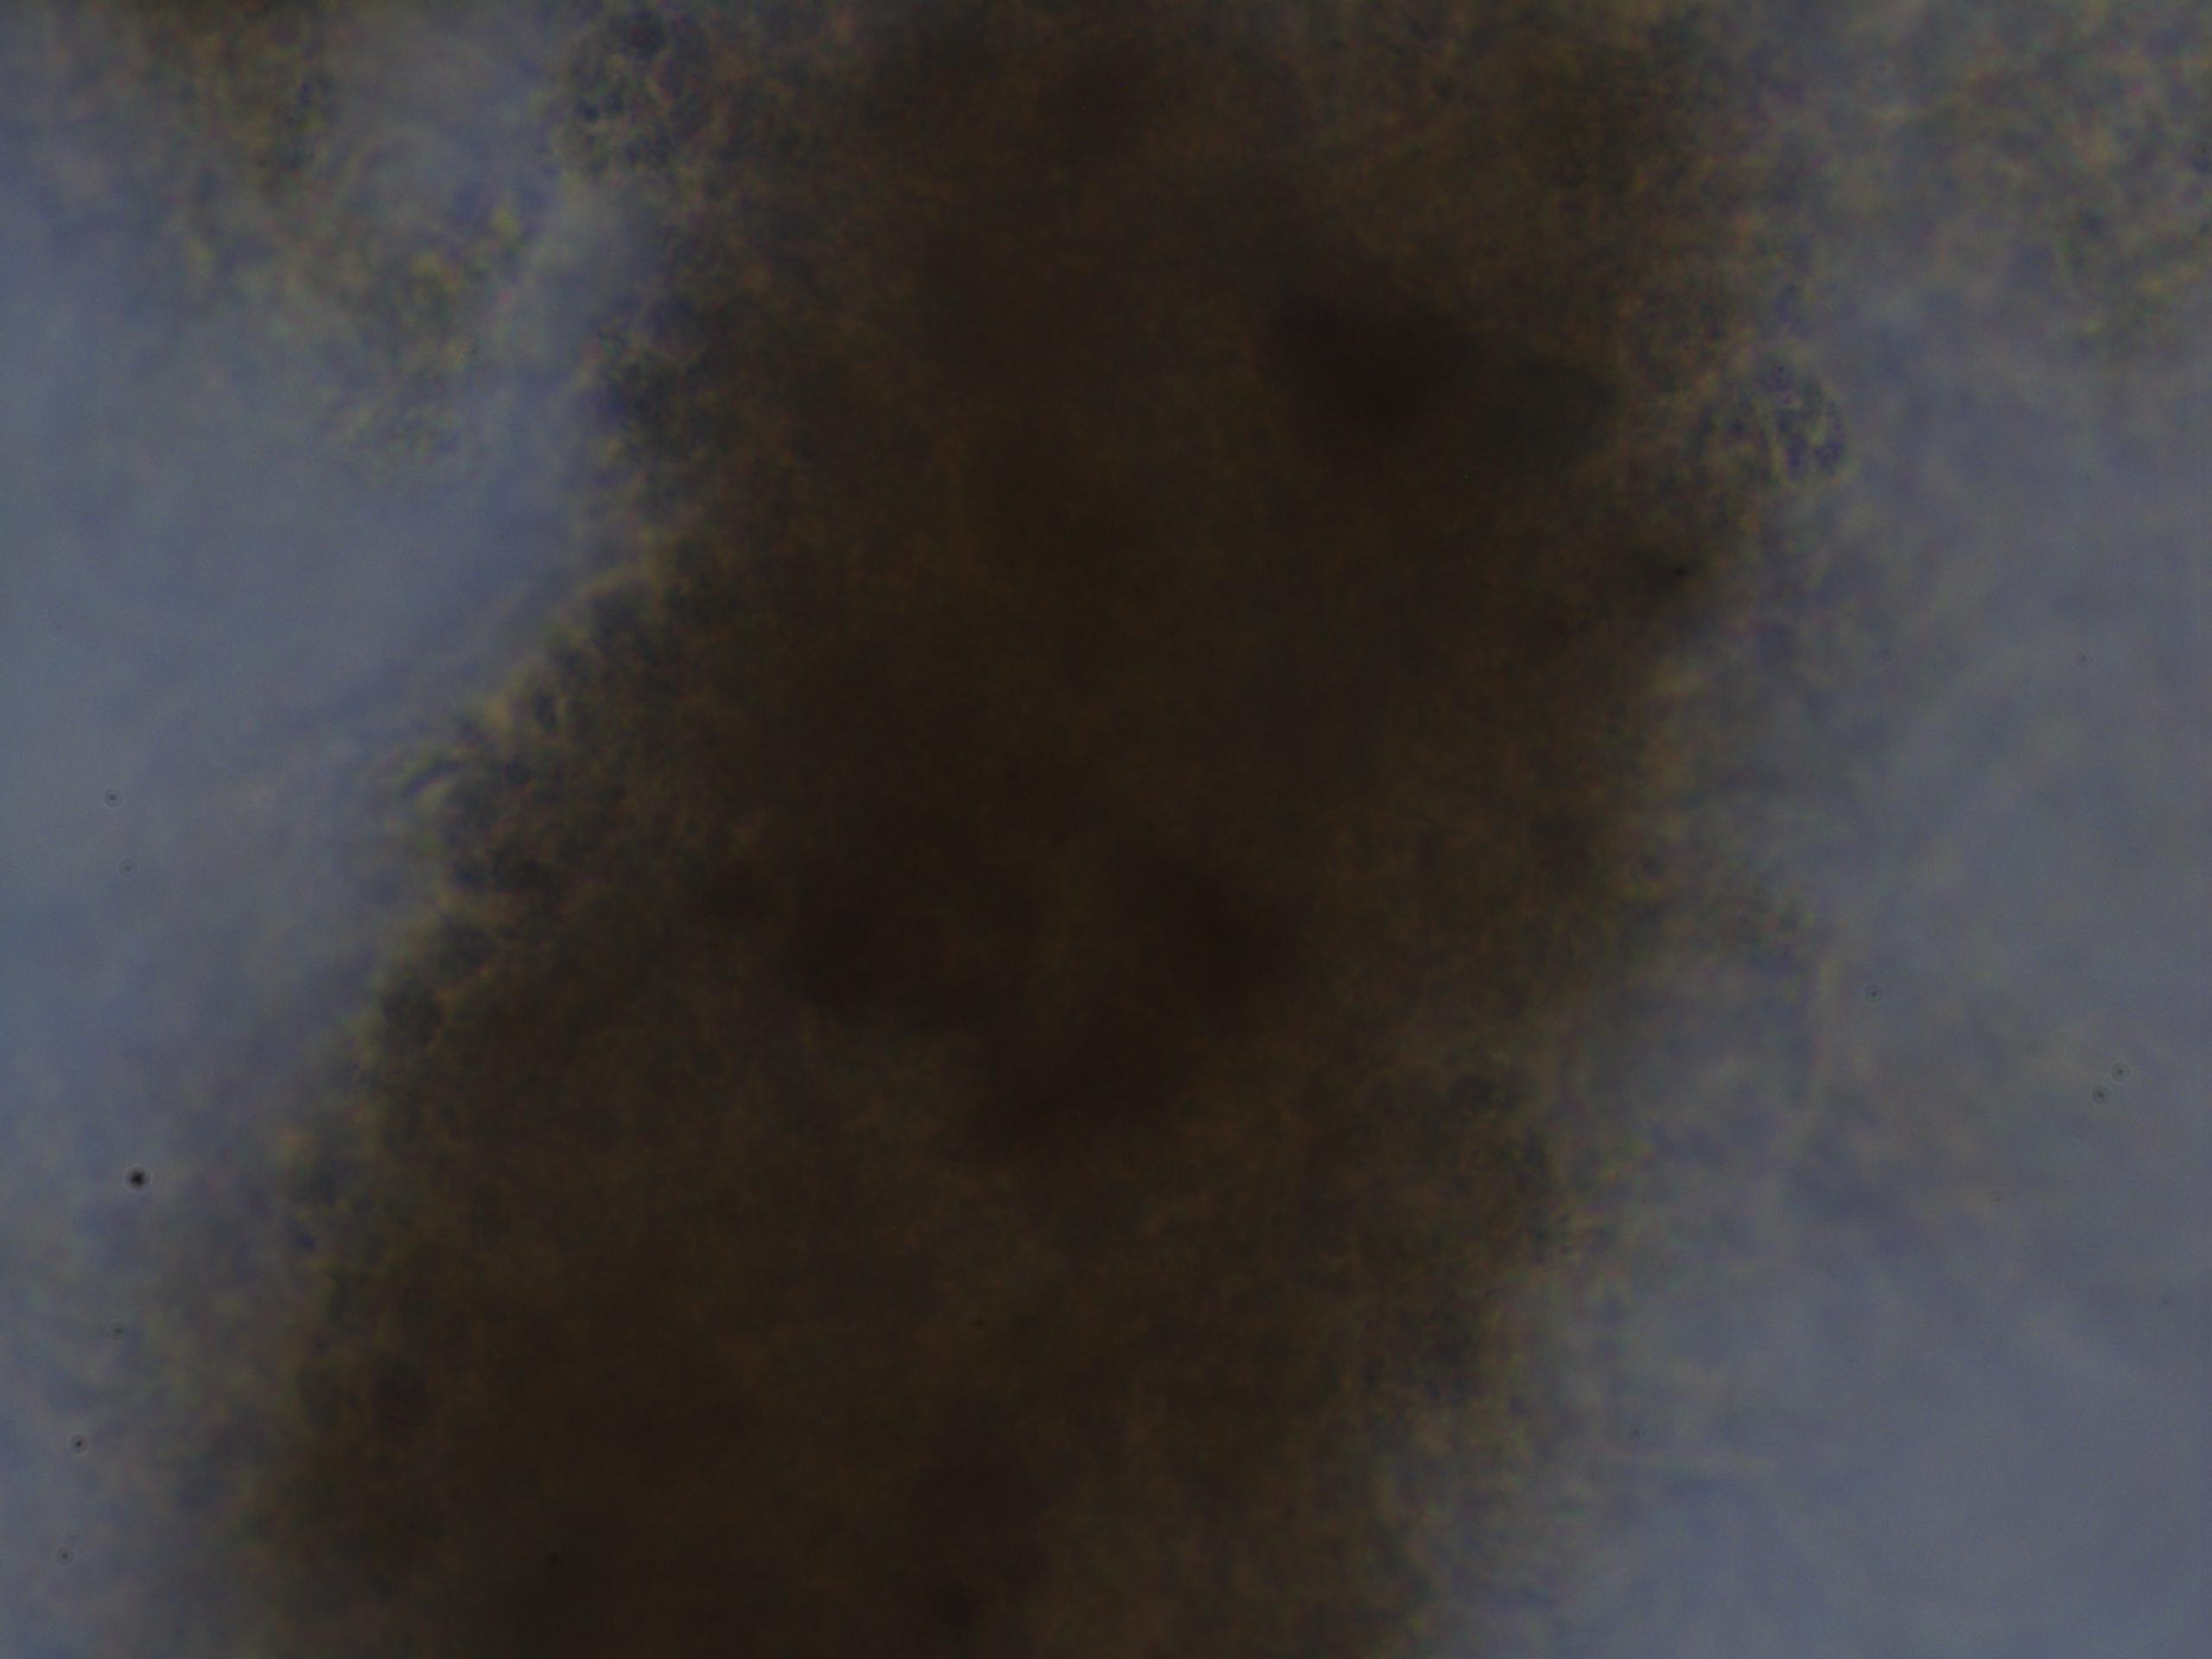spherical_floc: (228, 16, 1782, 1659)
